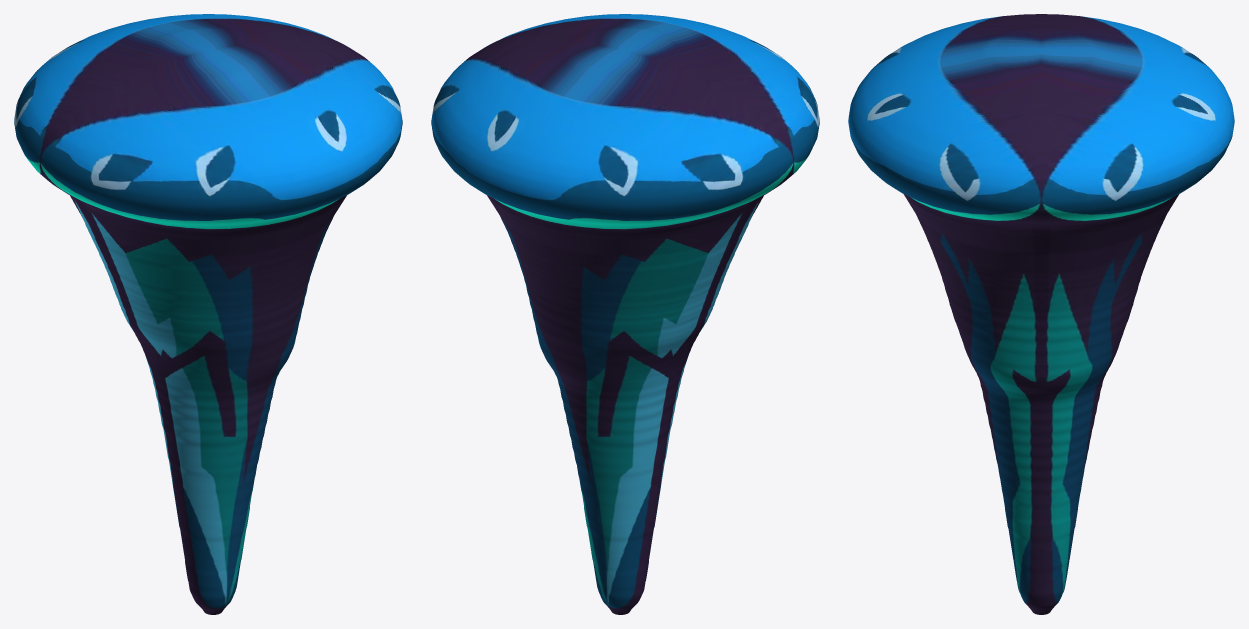
Rendered from blue_mushroom.glb.
3 renders of one model, left to right at view 1: azimuth 30°, elevation 25°; view 2: azimuth 150°, elevation 25°; view 3: azimuth 270°, elevation 25°, orthographic.
Visible parts, largest first — view 1: blue_mushroom; view 2: blue_mushroom; view 3: blue_mushroom.
Part boxes in pixels (x1,y1,x2,y2): blue_mushroom: (14,14,402,614); blue_mushroom: (431,14,819,614); blue_mushroom: (848,14,1234,614).
Bounding box in the file's own units: 0.9969 × 1.59 × 0.9969.
Materials: 1 (1 with a texture image).
